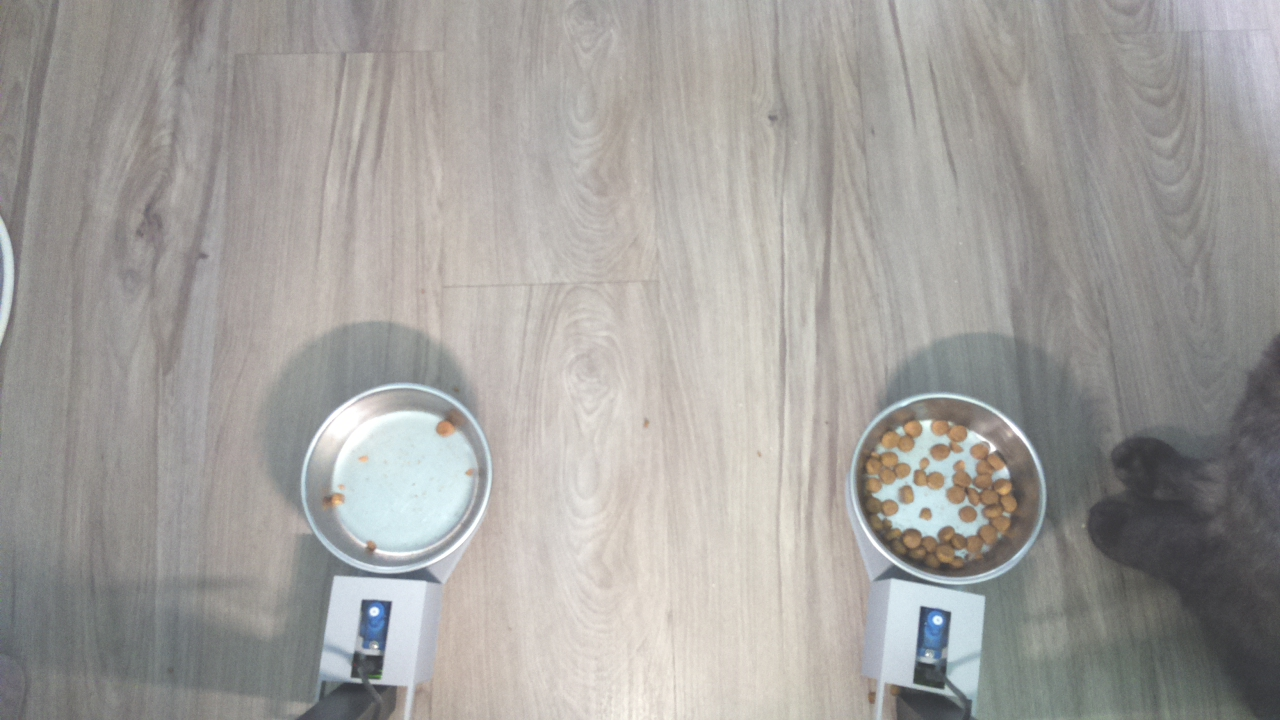open_bowl: (847, 392, 1045, 585), (299, 380, 490, 580)
